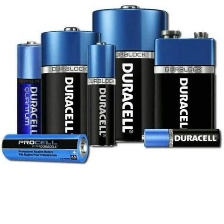battery: (85, 1, 171, 144), (37, 25, 104, 148), (152, 27, 220, 142), (12, 38, 49, 142), (85, 38, 118, 149), (1, 131, 93, 168), (138, 128, 223, 151)
